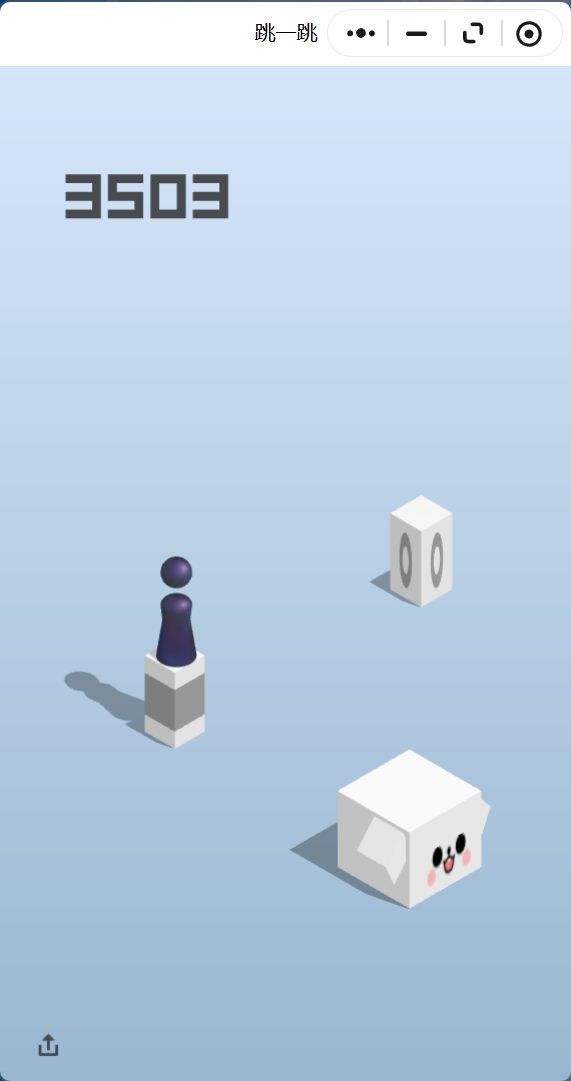piece: (160, 556, 192, 664)
target: (391, 495, 453, 531)
